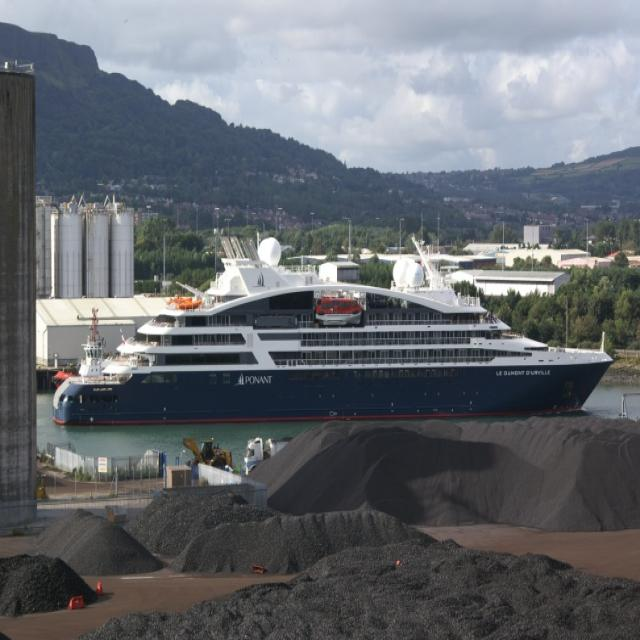cruises: (50, 235, 619, 432)
